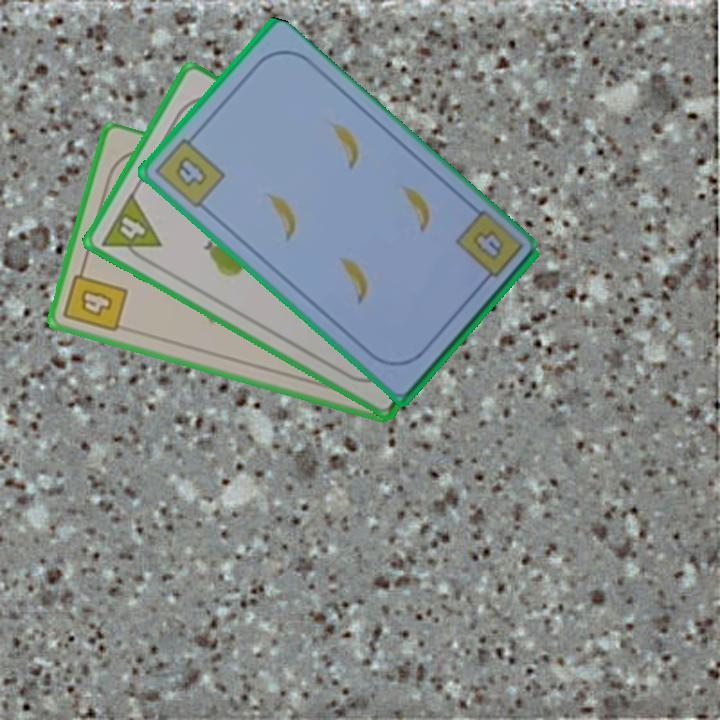4b: (151, 129, 228, 211), (60, 261, 131, 336), (468, 226, 507, 264)
4p: (98, 189, 164, 268)
